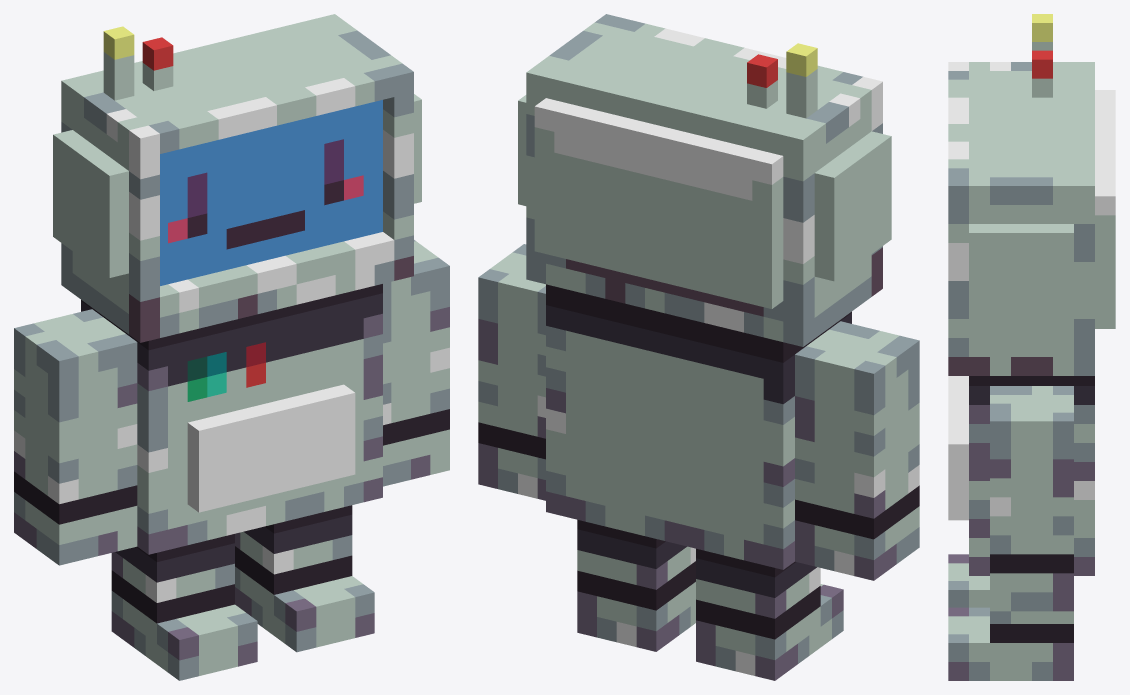
Rendered from Robot2.glb.
3 views of the same model, side by side, from view 1: azimuth 30°, elevation 25°; view 2: azimuth 150°, elevation 25°; view 3: azimuth 270°, elevation 25° (orthographic). The views are drawn at different scales.
Parts seen in each view (by area): view 1: Untitled; view 2: Untitled; view 3: Untitled.
Part boxes in pixels (x1=…): Untitled: x1=14, y1=14, x2=449, y2=680; Untitled: x1=478, y1=14, x2=919, y2=680; Untitled: x1=948, y1=14, x2=1115, y2=680.
Bounding box in the file's own units: 5.54 × 8.32 × 2.22.
6 materials, 6 textured.
